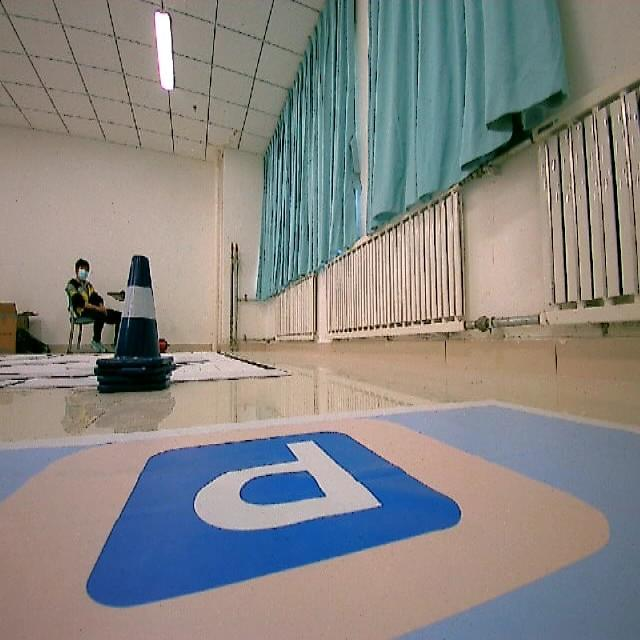obstacle: (93, 251, 181, 398)
